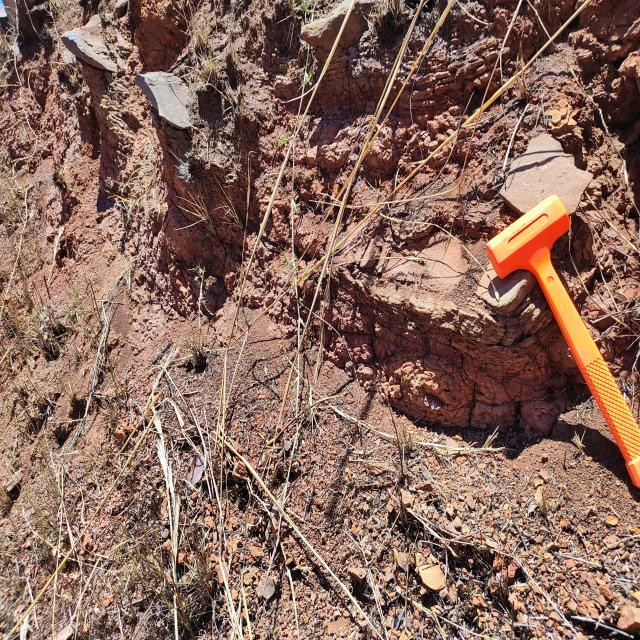Orange_hammer: (484, 193, 640, 489)
